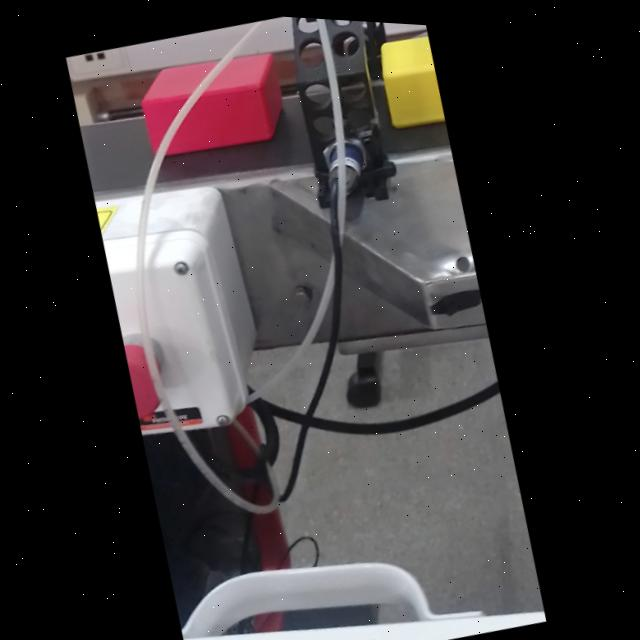redBox: (125, 17, 312, 196)
yellowBox: (354, 17, 454, 153)
